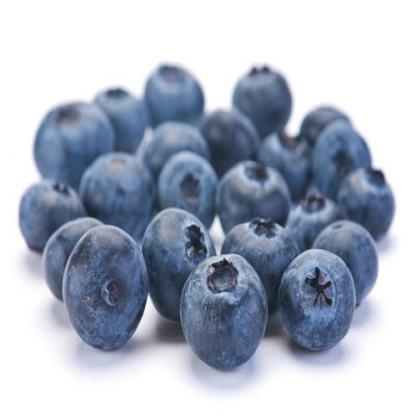blueberry: (63, 226, 148, 353), (183, 255, 268, 373), (274, 244, 355, 356), (141, 205, 214, 318), (220, 217, 298, 317)
